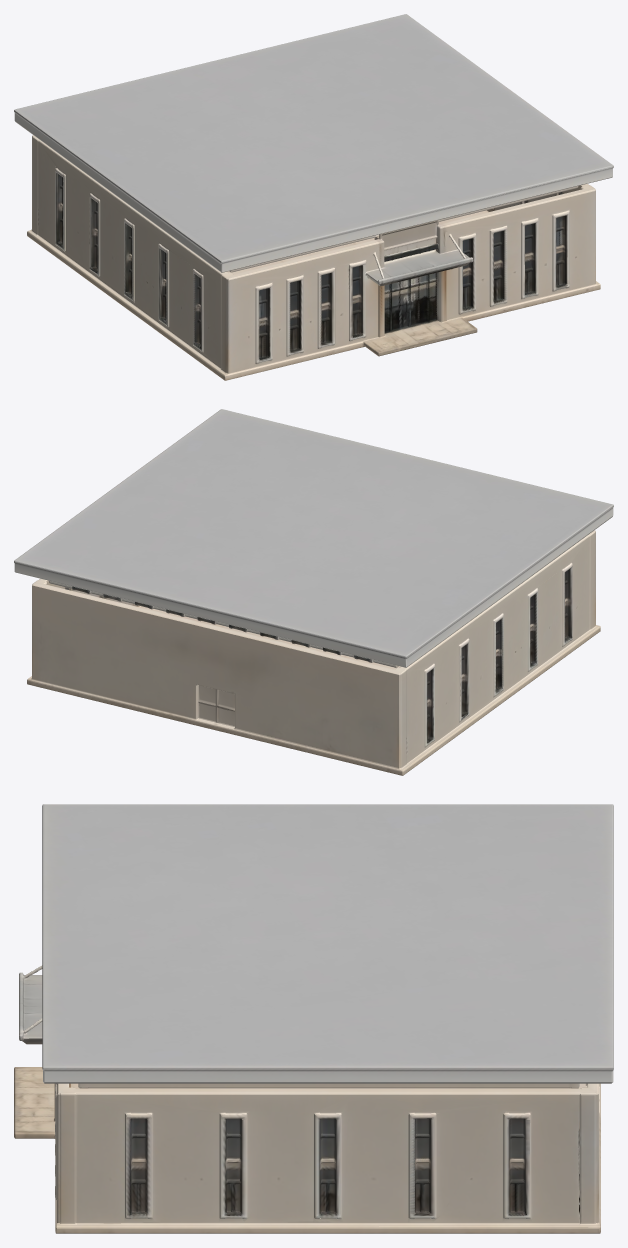
Rendered from city_hall.glb.
3 views of the same model, one above another, from view 1: azimuth 30°, elevation 25°; view 2: azimuth 150°, elevation 25°; view 3: azimuth 270°, elevation 25° (orthographic). The views are drawn at different scales.
Parts seen in each view (by area): view 1: building; view 2: building; view 3: building.
Boxes of the visible parts, x1,y1,x2,y2 form: building: [14, 14, 613, 380]; building: [14, 409, 613, 775]; building: [14, 804, 613, 1233].
Size of the model in its own units: 1.91 by 0.582 by 1.83.
Materials: 1 (1 with a texture image).
